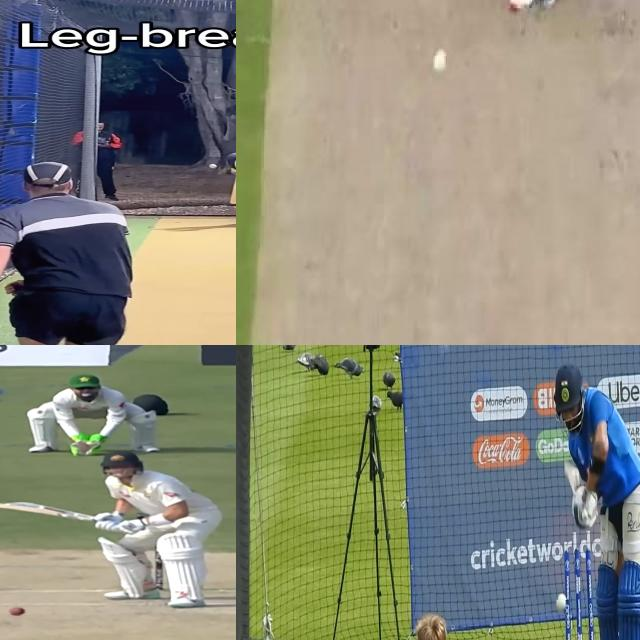Cricket ball: (432, 48, 452, 78), (556, 592, 568, 614), (8, 606, 28, 617), (208, 163, 217, 169)
Stumps: (563, 548, 597, 640)
